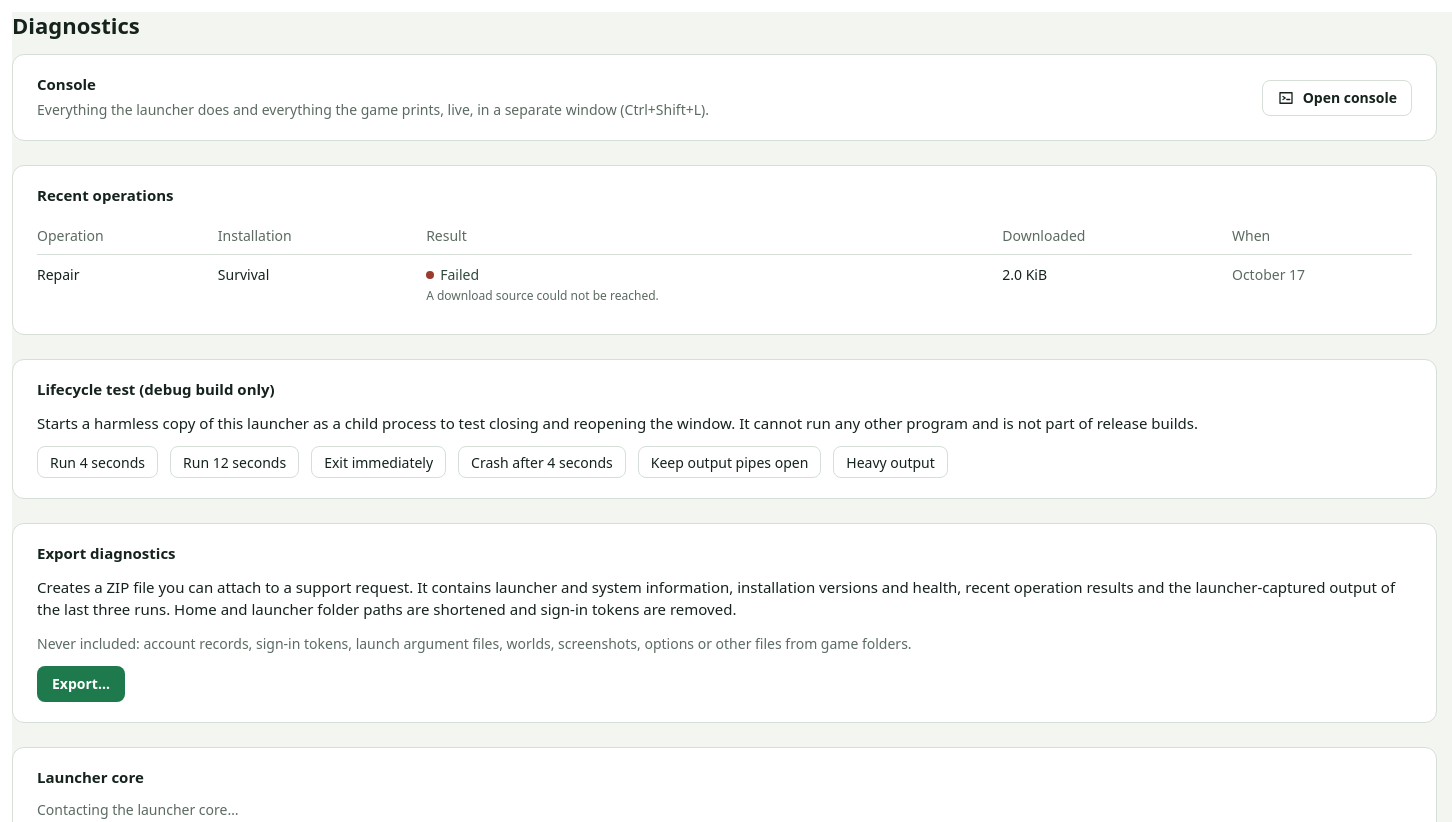
DiagnosticsView › says so when the save dialog is closed
Step 1. Click the button "Export…" → [81, 684], box [37,666,125,702]
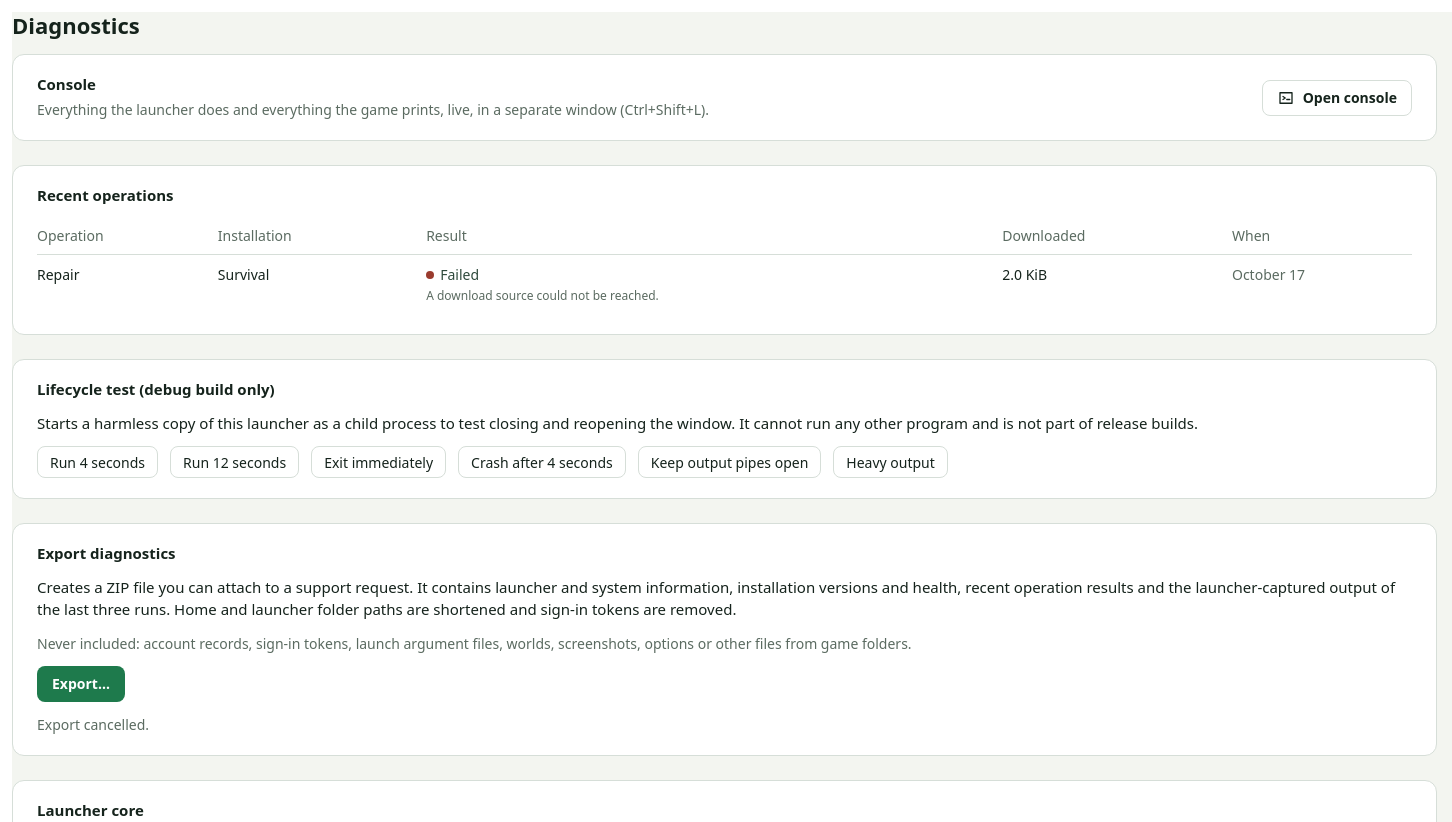
Expected: the text "Export cancelled." is shown, [37,715,149,734]
